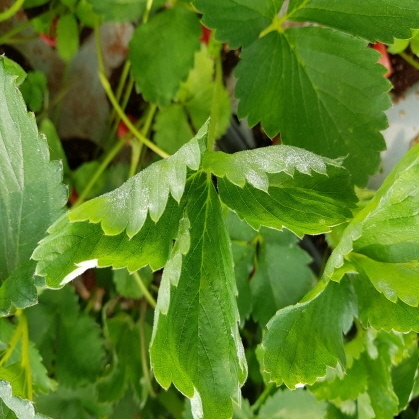Powdery_Leaf: (29, 129, 211, 304), (147, 0, 248, 245), (203, 151, 361, 275)
